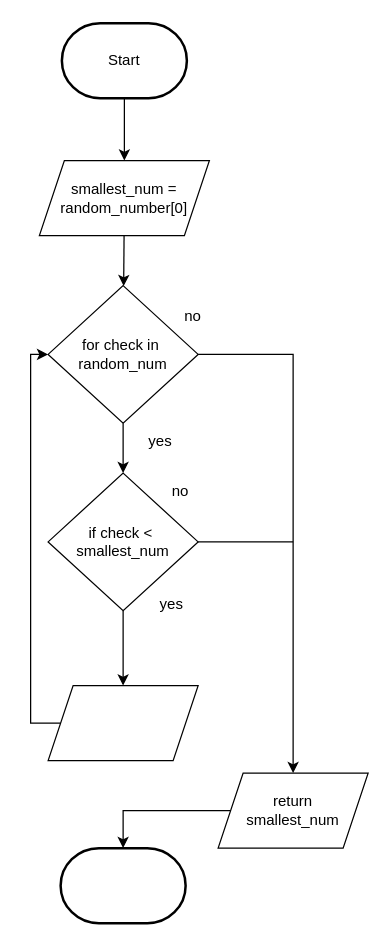
This 390x945 diagram has some shape labels left out. The centre of each missing label's shape, as x and y in pixels:
"smallest_num = check" goes at (x=122, y=722).
"Stop" goes at (x=122, y=885).
